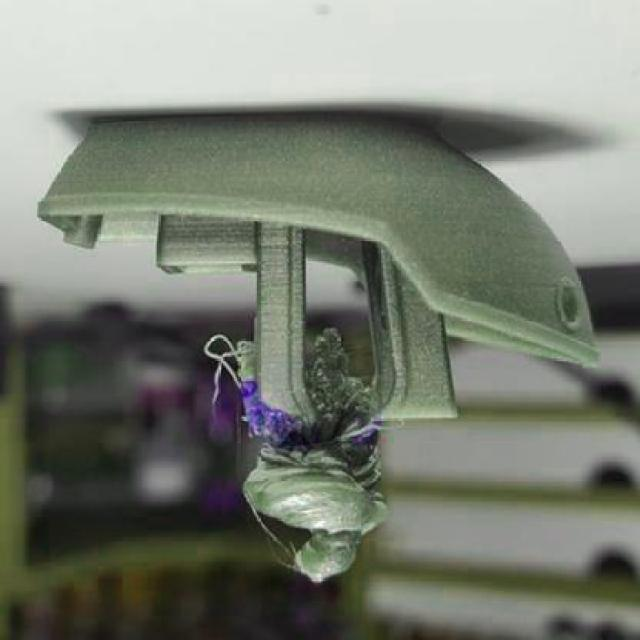Spaghetti: (205, 334, 297, 441), (306, 327, 380, 427)
